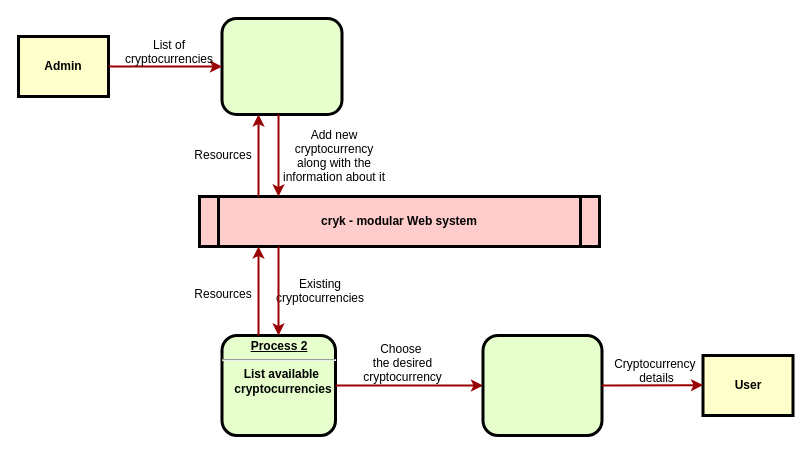
This 812x454 diagram has some shape labels left out. Here are the shapes that lost their labels. From the top down, the box of each, then its label:
(220, 16, 343, 116): Process 1 Create the c hosen cryptocurrencies
(481, 334, 603, 436): Process 3 View information about the chosen cryptocurrency
